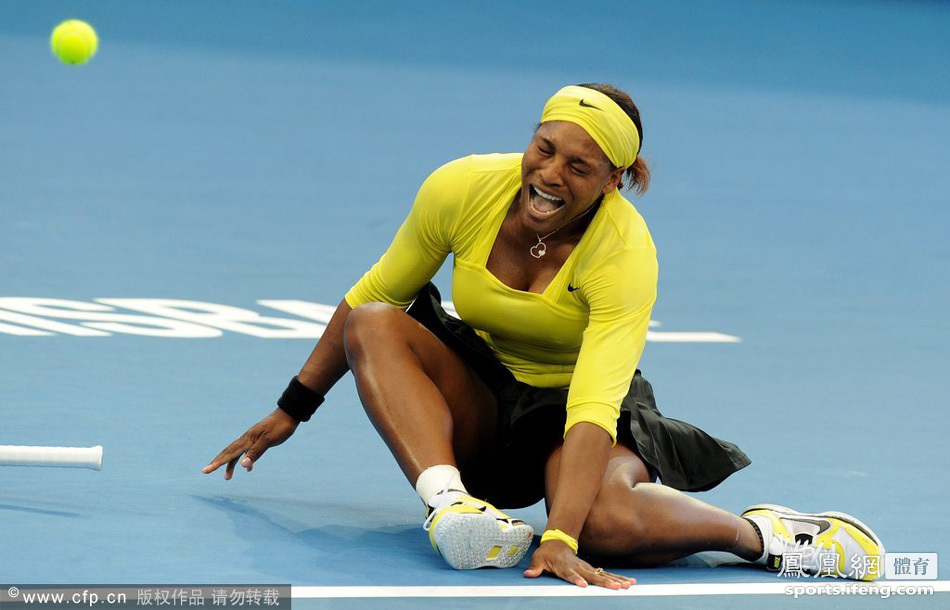down: (197, 57, 892, 590)
